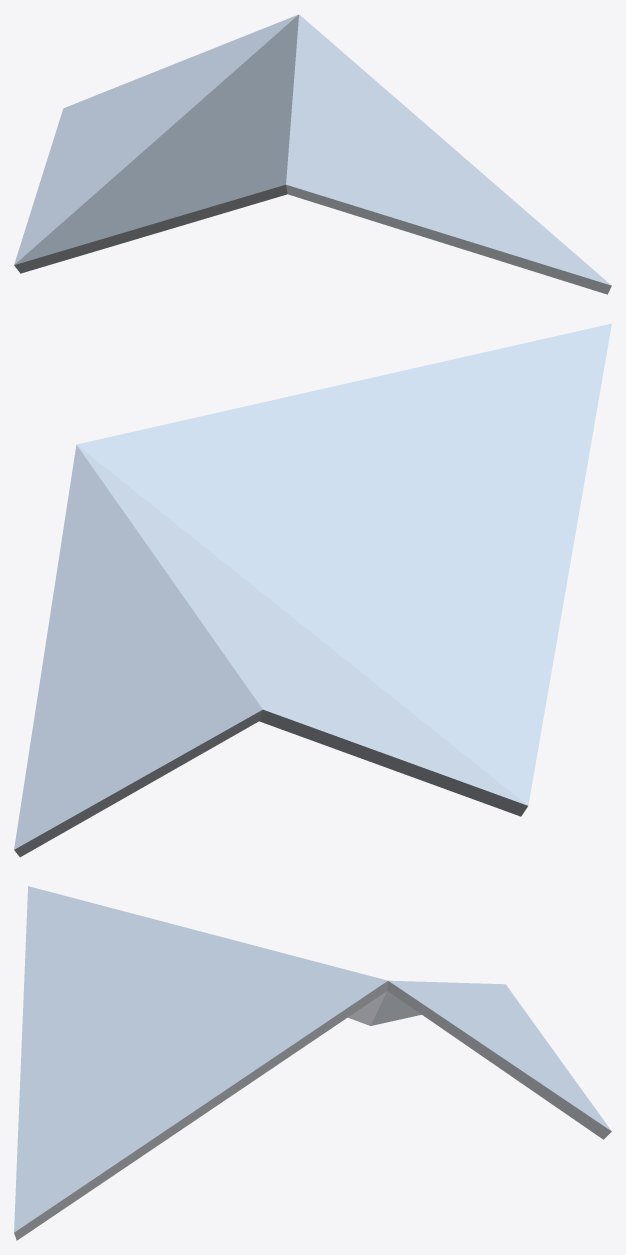
The picture shows the model from 3 angles, top to bottom: view 1: azimuth 30°, elevation 25°; view 2: azimuth 150°, elevation 25°; view 3: azimuth 270°, elevation 25°; orthographic projection. The views are drawn at different scales.
Visible parts, largest first — view 1: 70030076431901258lod; view 2: 70030076431901258lod; view 3: 70030076431901258lod.
Boxes of the visible parts, bbox=[...] form: 70030076431901258lod: bbox=[14, 14, 611, 294]; 70030076431901258lod: bbox=[14, 323, 611, 857]; 70030076431901258lod: bbox=[14, 886, 611, 1240].
Bounding box in the file's own units: 20.89 × 8.56 × 24.08.
1 material, 1 textured.
